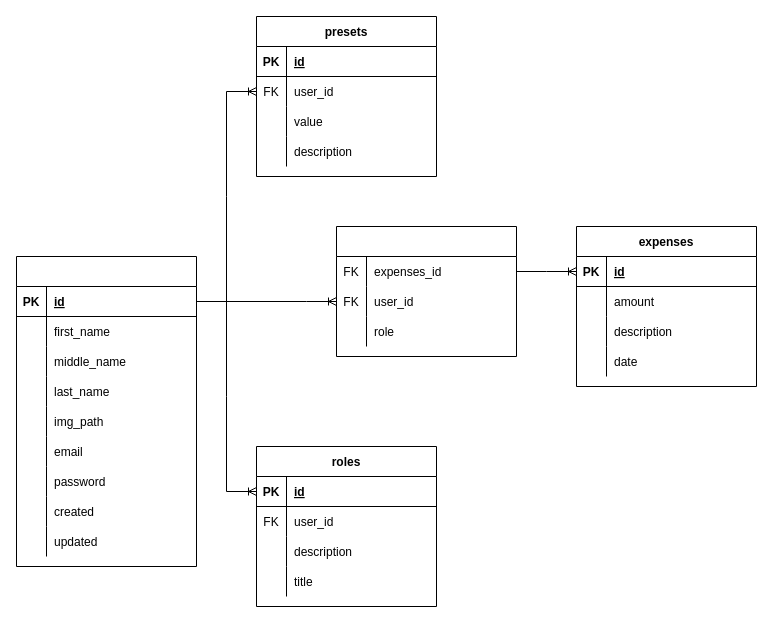
The diagram is 773 pixels wide and 623 high, and some of its shapes have lost their labels. The box of each missing label's shape, as (x1, y1, x2, y2) in pixels:
users: (16, 256, 196, 566)
users_expenses: (336, 226, 516, 356)
